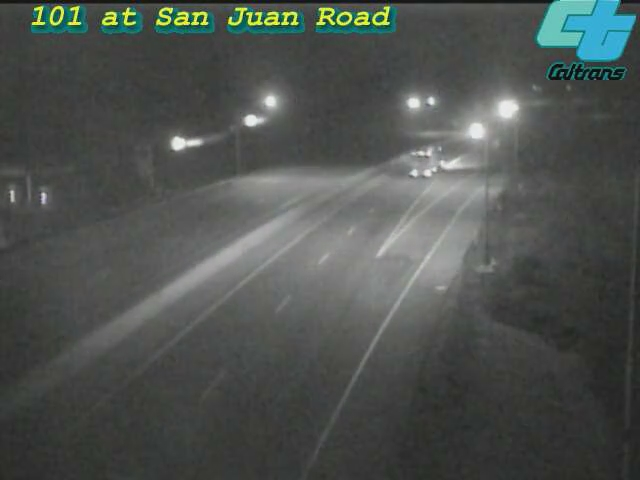vehicle: (383, 123, 463, 203), (451, 105, 501, 155), (481, 85, 531, 135)
